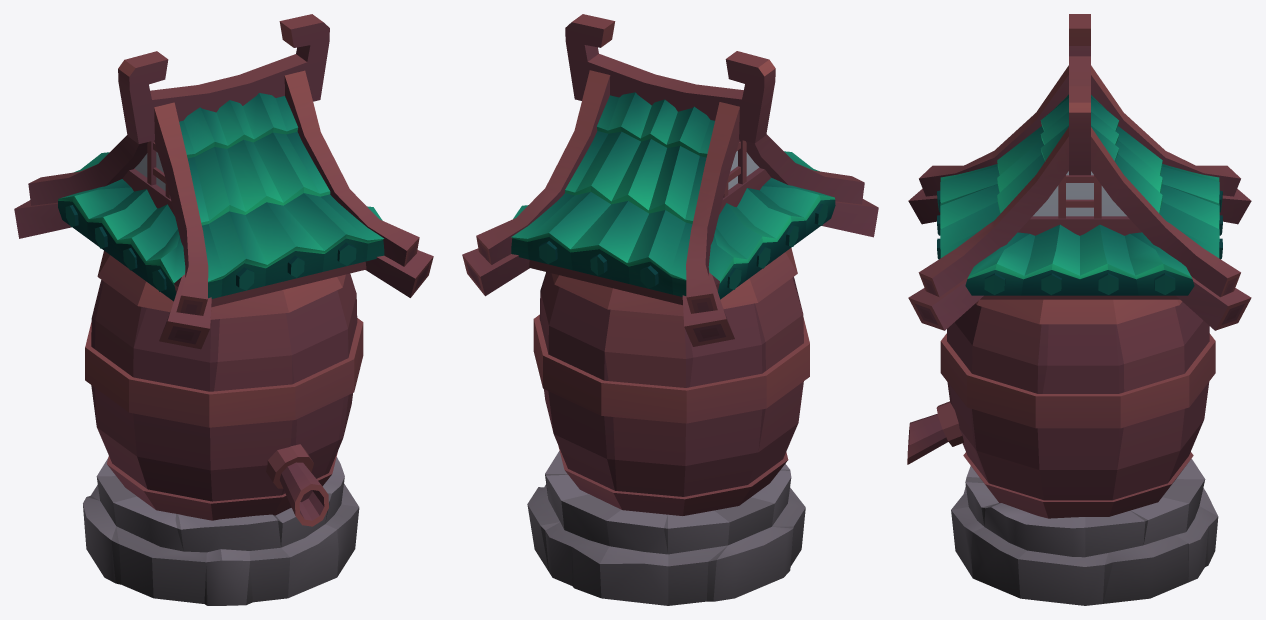
Rendered from granary.glb.
The picture shows the model from 3 angles, left to right: view 1: azimuth 30°, elevation 25°; view 2: azimuth 150°, elevation 25°; view 3: azimuth 270°, elevation 25°; orthographic projection. The views are drawn at different scales.
Visible parts, largest first — view 1: granary; view 2: granary; view 3: granary.
Boxes of the visible parts, box(x1,y1,x2,y2) form: granary: box(14, 14, 433, 605); granary: box(462, 14, 878, 605); granary: box(907, 14, 1251, 605).
Size of the model in its own units: 2.23 by 4.03 by 2.55.
1 material, 1 textured.
